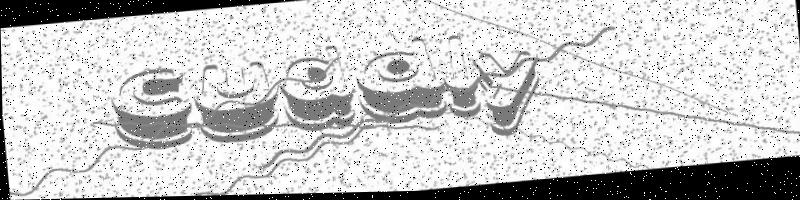c: (107, 66, 194, 153)
d: (352, 36, 448, 129), (276, 44, 357, 135)
l: (441, 35, 482, 121)
u: (191, 59, 282, 147)
y: (473, 50, 544, 141)
